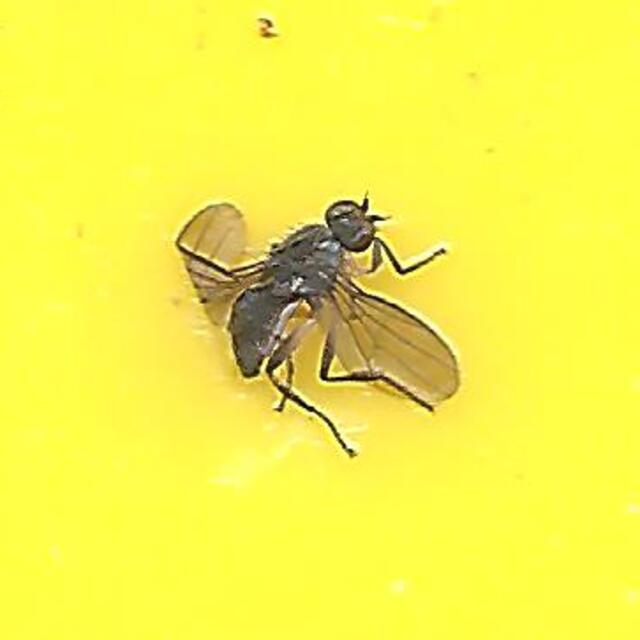Brachycera: (176, 184, 464, 456)
